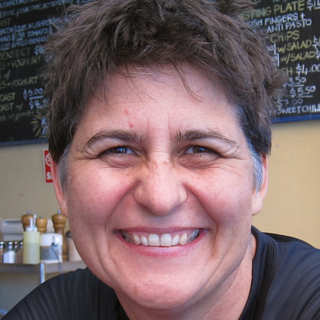eye: (173, 138, 228, 169), (92, 140, 144, 165)
